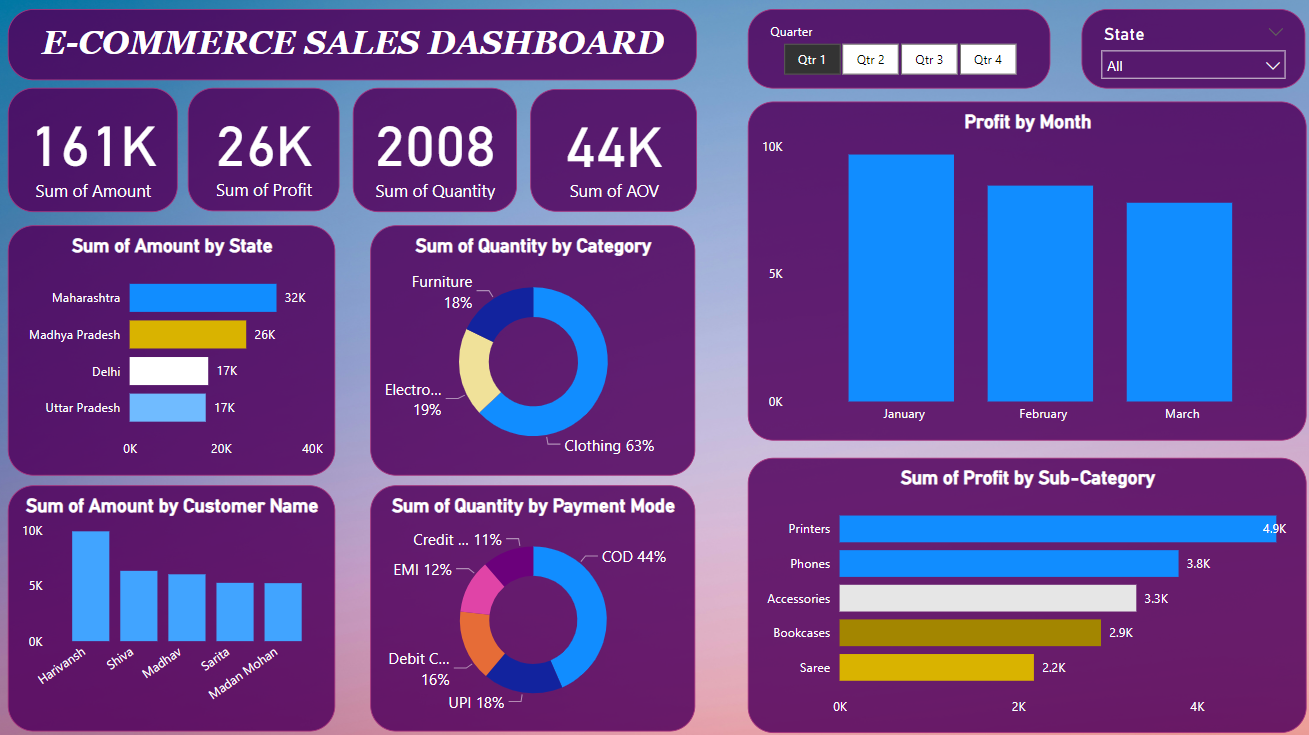

The page's visual inventory and layout, read from the dashboard file:
{"tool":"powerbi","page":{"name":"Page 1","canvas":[1280,720],"ordinal":0},"visuals":[{"type":"textbox","box":[13.3,14.5,664.5,68.7],"z":0},{"type":"columnChart","title":"Profit by Month","fields":{"Category":["Orders.Order Date.Variation.Date Hierarchy.Month"],"Y":["Sum(Details.Profit)"]},"box":[727.2,103.7,539.1,326.8],"z":1000},{"type":"barChart","fields":{"Category":["Details.Sub-Category"],"Y":["Sum(Details.Profit)"]},"box":[726,445,539.1,266.5],"z":2000},{"type":"donutChart","fields":{"Category":["Details.Category"],"Y":["Sum(Details.Quantity)"]},"box":[363,223.1,313.6,241.2],"z":3000},{"type":"donutChart","title":"Sum of Quantity by Payment Mode","fields":{"Y":["Sum(Details.Quantity)"],"Category":["Details.PaymentMode"]},"box":[362.5,473.9,313.6,238.6],"z":4000},{"type":"card","fields":{"Values":["Sum(Details.Amount)"]},"box":[13,91,164,120],"z":5000},{"type":"card","fields":{"Values":["Sum(Details.Quantity)"]},"box":[346,90,158,120],"z":6000},{"type":"card","fields":{"Values":["Sum(Details.Profit)"]},"box":[187,91,146,119],"z":7000},{"type":"card","fields":{"Values":["Sum(Details.AOV)"]},"box":[517,92,161,118],"z":8000},{"type":"barChart","fields":{"Category":["Orders.State"],"Y":["Sum(Details.Amount)"]},"box":[13.3,223.1,316,241.2],"z":9000},{"type":"columnChart","title":"Sum of Amount by Customer Name","fields":{"Category":["Orders.CustomerName"],"Y":["Sum(Details.Amount)"]},"box":[13.6,473.9,315.9,238.6],"z":10000},{"type":"slicer","fields":{"Values":["Orders.Order Date.Variation.Date Hierarchy.Quarter"]},"box":[727.2,14.5,291.9,77.2],"z":11000},{"type":"slicer","fields":{"Values":["Orders.State"]},"box":[1049.2,14.5,215.9,77.2],"z":12000}]}

Visuals, with their boxes in screenshot pixels (x1, y1, x2, y2), scaled from the page's 1280x720 canvas onto the 1309x735 screenshot:
textbox: (14,15,693,85)
"Profit by Month" columnChart: (744,106,1295,439)
barChart - Details.Sub-Category x Sum(Details.Profit): (742,454,1294,726)
donutChart - Details.Category x Sum(Details.Quantity): (371,228,692,474)
"Sum of Quantity by Payment Mode" donutChart: (371,484,691,727)
card - Sum(Details.Amount): (13,93,181,215)
card - Sum(Details.Quantity): (354,92,515,214)
card - Sum(Details.Profit): (191,93,341,214)
card - Sum(Details.AOV): (529,94,693,214)
barChart - Orders.State x Sum(Details.Amount): (14,228,337,474)
"Sum of Amount by Customer Name" columnChart: (14,484,337,727)
slicer - Orders.Order Date.Variation.Date Hierarchy.Quarter: (744,15,1042,94)
slicer - Orders.State: (1073,15,1294,94)
